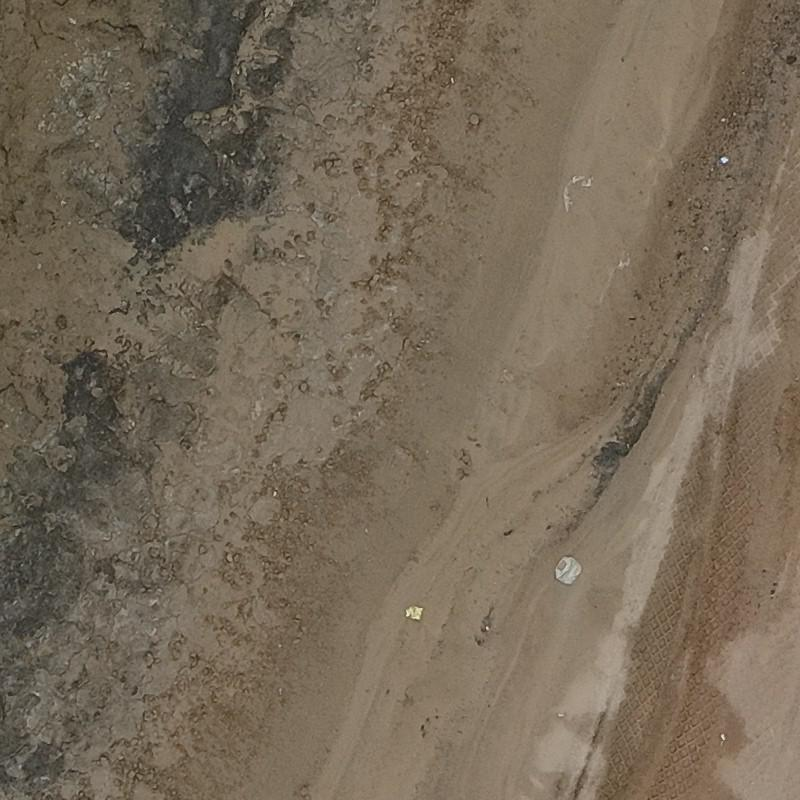coastal_litter: (553, 557, 583, 585)
